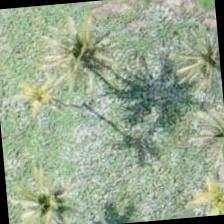Kelapa_Sawit: (25, 5, 123, 103), (4, 153, 91, 223), (166, 10, 224, 104)
